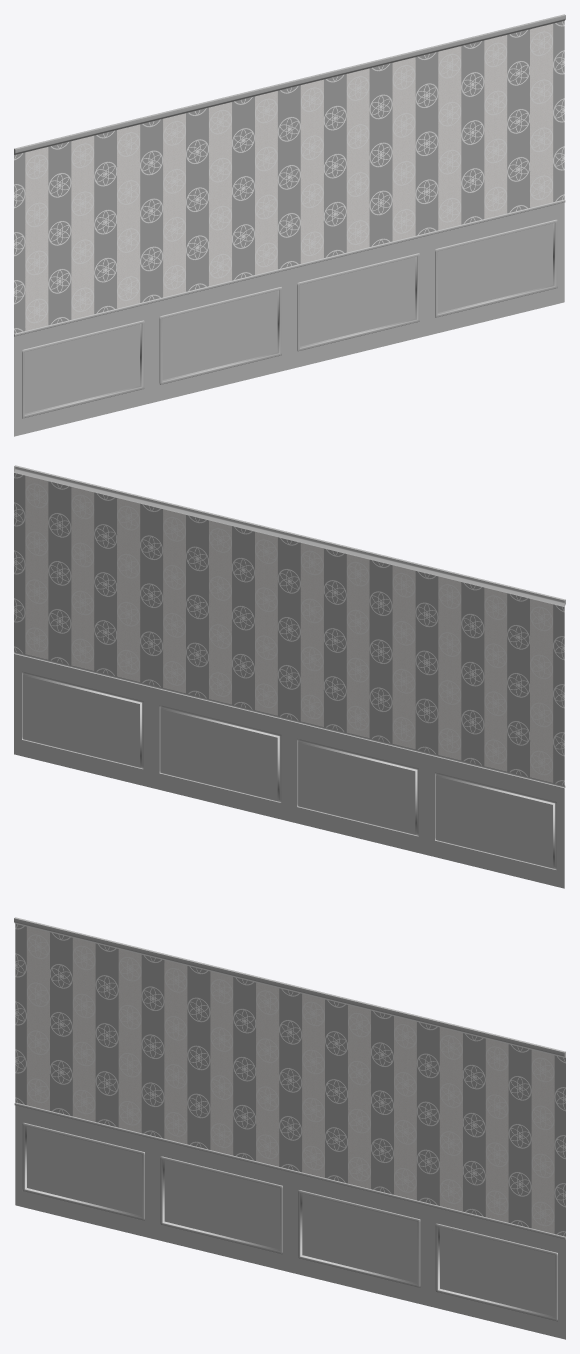
The model's file is WallNiche03_700cm.FBX.
The picture shows the model from 3 angles, top to bottom: view 1: azimuth 30°, elevation 25°; view 2: azimuth 150°, elevation 25°; view 3: azimuth 330°, elevation 25°; orthographic projection.
Parts seen in each view (by area): view 1: WallNiche03_700cm; view 2: WallNiche03_700cm; view 3: WallNiche03_700cm.
Boxes of the visible parts, x1,y1,x2,y2 form: WallNiche03_700cm: (14,14,565,436); WallNiche03_700cm: (14,465,565,888); WallNiche03_700cm: (14,917,565,1339).
Bounding box in the file's own units: 7000 × 3500 × 60.
